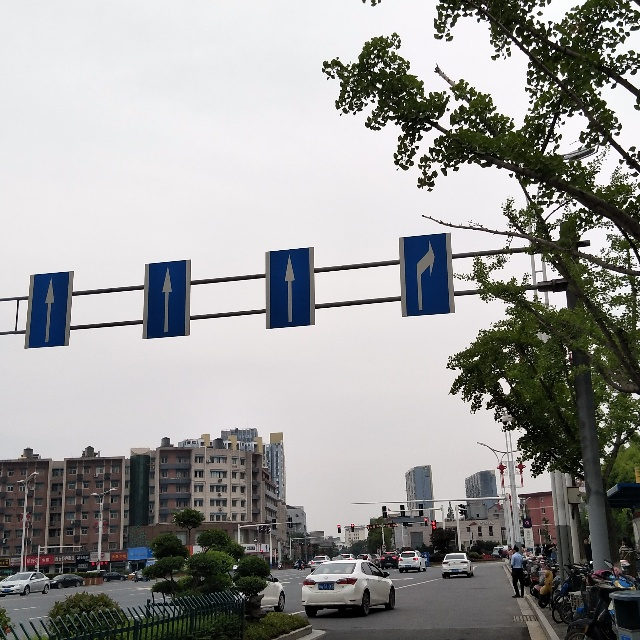right: (400, 233, 456, 318)
straight: (266, 247, 316, 330), (142, 260, 191, 339), (25, 271, 73, 349)
